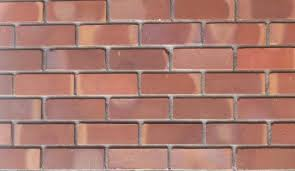brick: (175, 97, 233, 119), (206, 124, 269, 144), (173, 48, 232, 69), (143, 123, 202, 144), (237, 149, 295, 170), (16, 74, 73, 95), (142, 74, 201, 94), (206, 74, 265, 94), (79, 124, 138, 144), (47, 1, 105, 21), (47, 49, 105, 69), (79, 73, 137, 93), (48, 99, 106, 119), (238, 1, 295, 21), (238, 48, 295, 68), (173, 150, 233, 169), (17, 124, 74, 144), (207, 24, 266, 43), (143, 24, 201, 43), (80, 25, 137, 44), (47, 149, 104, 168), (110, 151, 167, 170), (19, 26, 75, 45), (111, 1, 170, 19), (174, 1, 233, 19), (111, 50, 166, 69), (111, 100, 169, 118), (239, 100, 295, 118), (1, 1, 43, 22), (1, 50, 41, 72), (1, 99, 41, 120), (1, 149, 38, 169), (270, 23, 295, 44), (270, 73, 295, 94), (272, 124, 295, 143), (1, 26, 14, 46), (1, 75, 12, 94), (1, 122, 10, 143)
